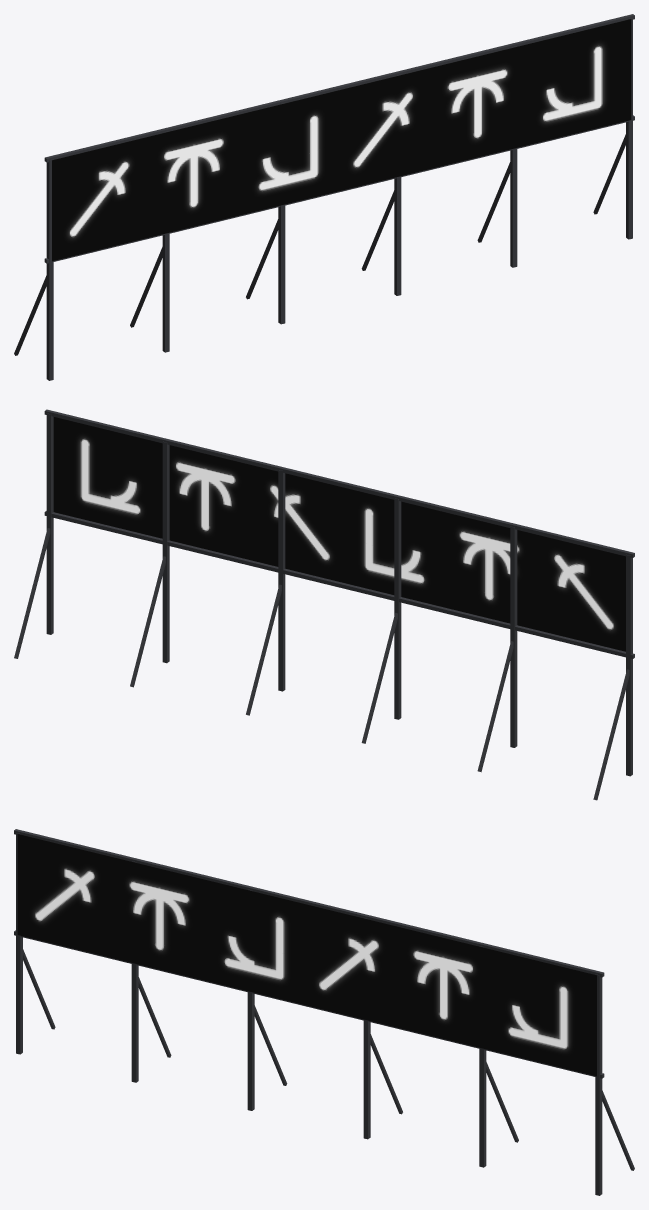
The model's file is sign_roof_2.gltf.
3 views of the same model, one above another, from view 1: azimuth 30°, elevation 25°; view 2: azimuth 150°, elevation 25°; view 3: azimuth 330°, elevation 25° (orthographic).
Visible parts, largest first — view 1: sign_roof_2; view 2: sign_roof_2; view 3: sign_roof_2.
Part boxes in pixels (x1,y1,x2,y2): sign_roof_2: [14, 14, 634, 380]; sign_roof_2: [14, 409, 634, 800]; sign_roof_2: [14, 829, 634, 1195].
Size of the model in its own units: 13.4 by 4.85 by 1.45.
Materials: 2 (1 with a texture image).
